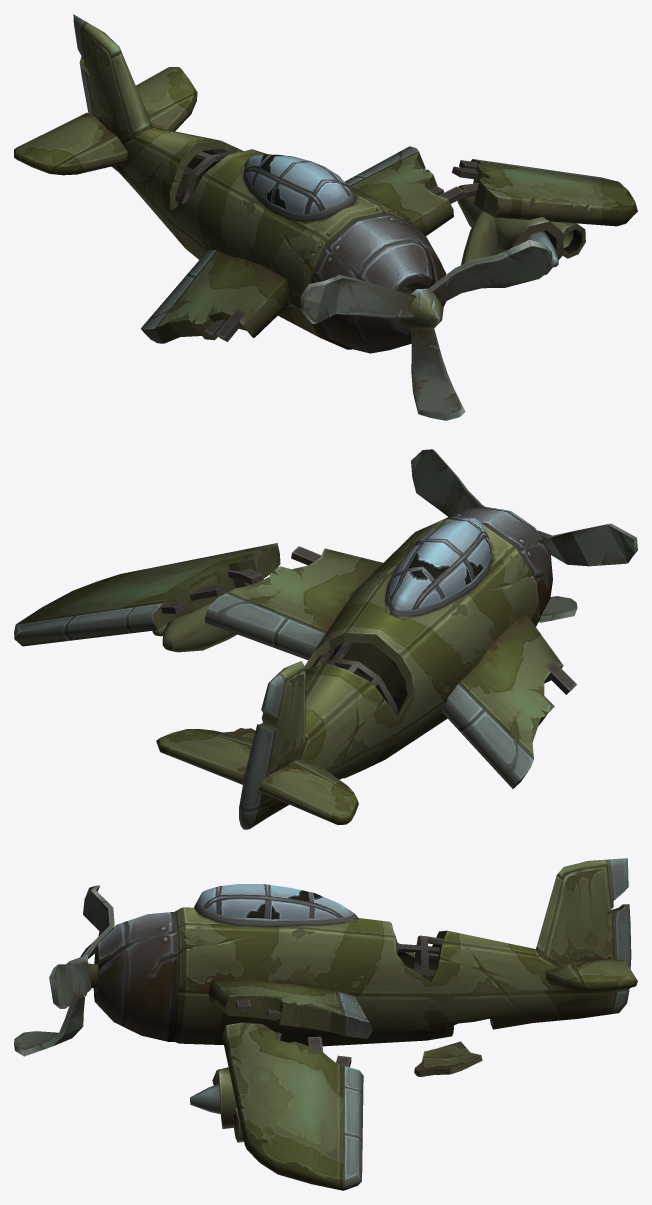
File: breakplane_01.fbx
The picture shows the model from 3 angles, top to bottom: view 1: azimuth 30°, elevation 25°; view 2: azimuth 150°, elevation 25°; view 3: azimuth 270°, elevation 25°; orthographic projection. The views are drawn at different scales.
Parts seen in each view (by area): view 1: breakplane_01; view 2: breakplane_01; view 3: breakplane_01.
Part boxes in pixels (left/top/right/bottom): breakplane_01: left=14, top=14, right=637, bottom=420; breakplane_01: left=14, top=449, right=637, bottom=829; breakplane_01: left=14, top=858, right=637, bottom=1190.
Bounding box in the file's own units: 1035 × 401 × 1244.
